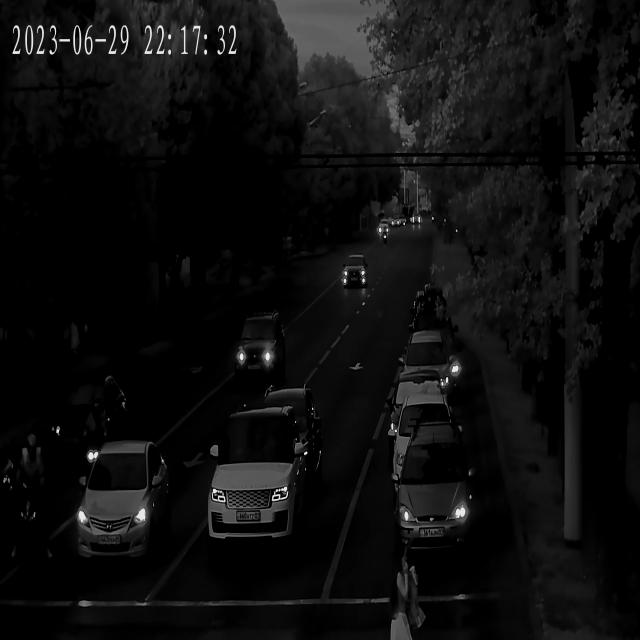Car: (207, 407, 305, 553), (394, 418, 472, 571), (79, 440, 171, 568), (255, 388, 323, 499), (396, 388, 456, 502), (55, 369, 129, 461), (385, 373, 451, 451), (239, 308, 289, 390), (401, 334, 452, 409), (414, 312, 464, 382), (343, 253, 368, 291), (376, 220, 391, 242)
